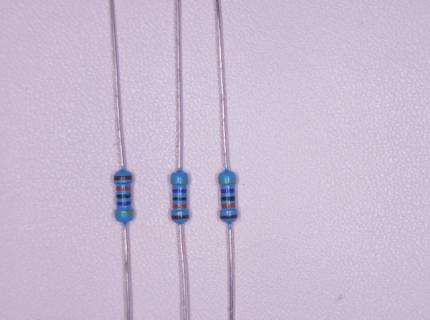Black band: (221, 196, 235, 201), (117, 194, 131, 198), (173, 197, 187, 200)
Brown band: (219, 214, 238, 219), (171, 215, 189, 220), (114, 176, 132, 180)
Orange band: (221, 203, 236, 209), (116, 186, 131, 191), (173, 204, 187, 208)
Violet band: (221, 188, 235, 193), (117, 201, 131, 206), (172, 189, 187, 193)
Yellow band: (218, 179, 236, 184), (115, 211, 133, 215), (171, 179, 188, 183)
